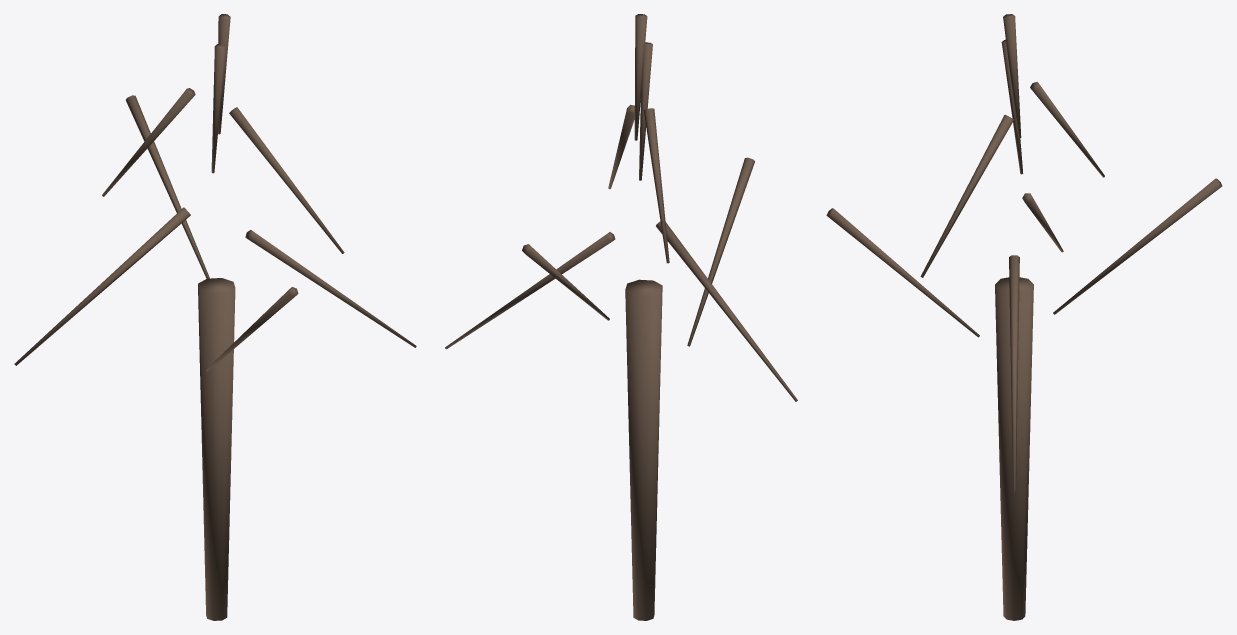
Rendered from WK_VEG_DeadTree.glb.
3 renders of one model, left to right at view 1: azimuth 30°, elevation 25°; view 2: azimuth 150°, elevation 25°; view 3: azimuth 270°, elevation 25°, orthographic.
Visible parts, largest first — view 1: WK_VEG_DeadTree_P01, WK_VEG_DeadTree_P03, WK_VEG_DeadTree_P04, WK_VEG_DeadTree_P02, WK_VEG_DeadTree_P06, WK_VEG_DeadTree_P07, WK_VEG_DeadTree_P08, WK_VEG_DeadTree_P05, WK_VEG_DeadTree_P09; view 2: WK_VEG_DeadTree_P01, WK_VEG_DeadTree_P03, WK_VEG_DeadTree_P05, WK_VEG_DeadTree_P02, WK_VEG_DeadTree_P07, WK_VEG_DeadTree_P09, WK_VEG_DeadTree_P08, WK_VEG_DeadTree_P04, WK_VEG_DeadTree_P06; view 3: WK_VEG_DeadTree_P01, WK_VEG_DeadTree_P02, WK_VEG_DeadTree_P04, WK_VEG_DeadTree_P06, WK_VEG_DeadTree_P05, WK_VEG_DeadTree_P09, WK_VEG_DeadTree_P07, WK_VEG_DeadTree_P08.
Part boxes in pixels (x1,y1,x2,y2): WK_VEG_DeadTree_P01: (198, 278, 235, 620); WK_VEG_DeadTree_P03: (14, 207, 190, 365); WK_VEG_DeadTree_P04: (125, 95, 209, 278); WK_VEG_DeadTree_P02: (245, 230, 416, 347); WK_VEG_DeadTree_P06: (229, 107, 344, 253); WK_VEG_DeadTree_P07: (102, 88, 195, 196); WK_VEG_DeadTree_P08: (211, 44, 225, 173); WK_VEG_DeadTree_P05: (206, 287, 298, 371); WK_VEG_DeadTree_P09: (218, 14, 230, 134); WK_VEG_DeadTree_P01: (625, 279, 662, 620); WK_VEG_DeadTree_P03: (656, 221, 797, 401); WK_VEG_DeadTree_P05: (687, 157, 754, 346); WK_VEG_DeadTree_P02: (445, 232, 615, 349); WK_VEG_DeadTree_P07: (643, 108, 669, 263); WK_VEG_DeadTree_P09: (634, 14, 647, 140); WK_VEG_DeadTree_P08: (639, 42, 652, 180); WK_VEG_DeadTree_P04: (522, 244, 609, 320); WK_VEG_DeadTree_P06: (608, 104, 634, 189); WK_VEG_DeadTree_P01: (995, 277, 1033, 620); WK_VEG_DeadTree_P02: (1009, 255, 1019, 492); WK_VEG_DeadTree_P04: (1053, 178, 1222, 314); WK_VEG_DeadTree_P06: (920, 114, 1013, 277); WK_VEG_DeadTree_P05: (826, 208, 979, 337); WK_VEG_DeadTree_P09: (1003, 14, 1021, 138); WK_VEG_DeadTree_P07: (1030, 82, 1104, 177); WK_VEG_DeadTree_P08: (1001, 39, 1023, 174).
Bounding box in the file's own units: 3.59 × 5.45 × 3.25.
